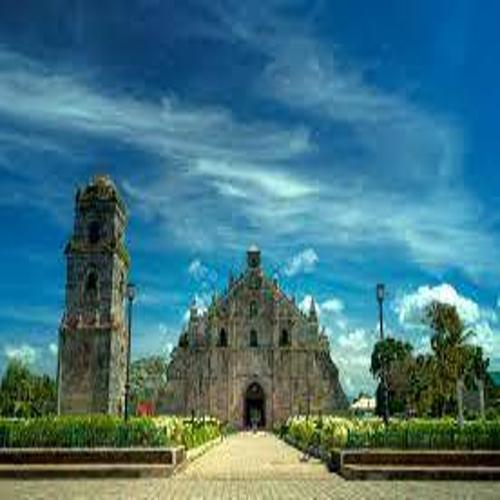Paoay Church: (44, 161, 374, 436)
